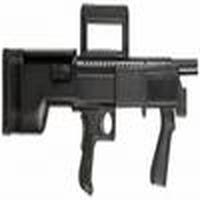gun: (5, 47, 200, 168)
